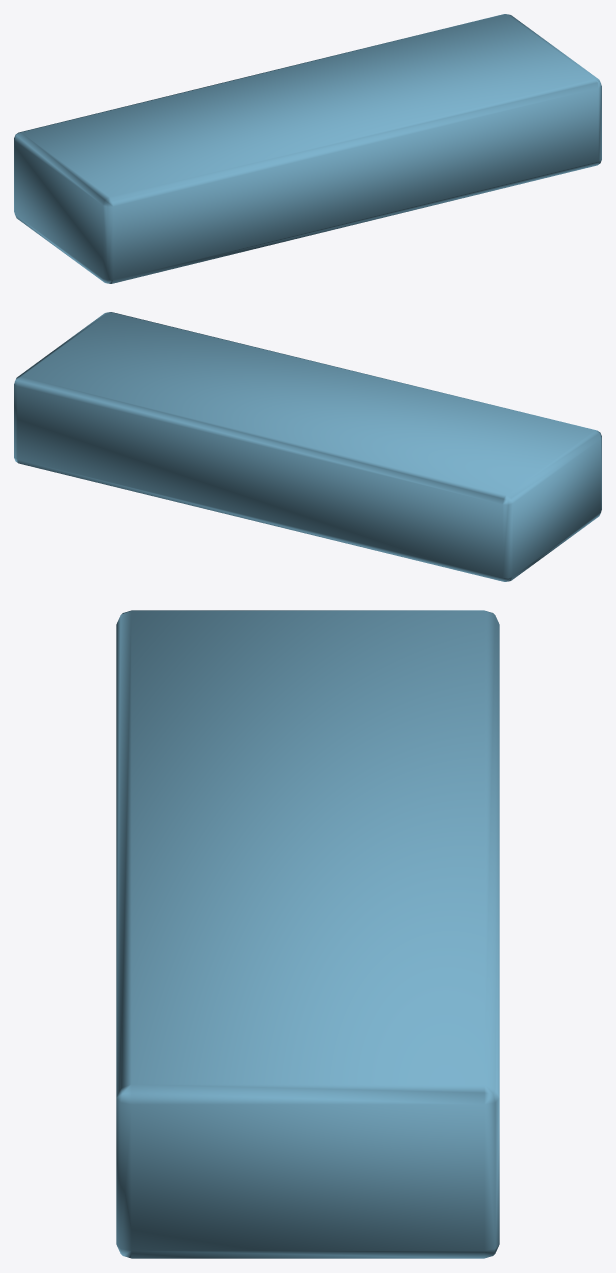
The model's file is S03_WIDE_FOOTING.fbx.
3 renders of one model, top to bottom at view 1: azimuth 30°, elevation 25°; view 2: azimuth 150°, elevation 25°; view 3: azimuth 270°, elevation 25°, orthographic. The views are drawn at different scales.
Parts seen in each view (by area): view 1: S03_WIDE_FOOTING; view 2: S03_WIDE_FOOTING; view 3: S03_WIDE_FOOTING.
Boxes of the visible parts, left/top/right/bottom form: S03_WIDE_FOOTING: left=14, top=14, right=601, bottom=283; S03_WIDE_FOOTING: left=14, top=312, right=601, bottom=581; S03_WIDE_FOOTING: left=116, top=610, right=499, bottom=1258.
Size of the model in its own units: 300 by 50 by 100.
